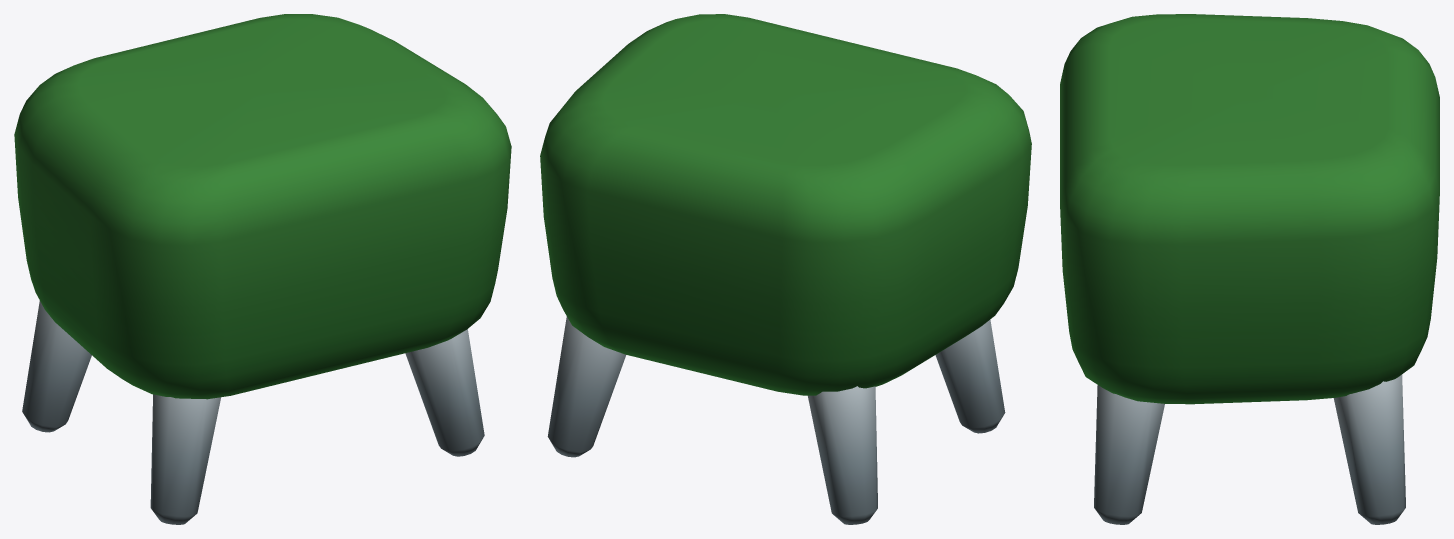
The model's file is Pouf_07.glb.
The picture shows the model from 3 angles, left to right: view 1: azimuth 30°, elevation 25°; view 2: azimuth 150°, elevation 25°; view 3: azimuth 270°, elevation 25°; orthographic projection. The views are drawn at different scales.
Parts seen in each view (by area): view 1: Pouf_07; view 2: Pouf_07; view 3: Pouf_07.
Boxes of the visible parts, x1,y1,x2,y2 form: Pouf_07: [14, 14, 511, 524]; Pouf_07: [540, 14, 1031, 524]; Pouf_07: [1060, 14, 1439, 524].
Size of the model in its own units: 0.5916 by 0.5029 by 0.4817.
1 material, 1 textured.
